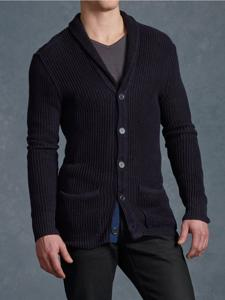C_cardigan sweater: (19, 11, 212, 255)
